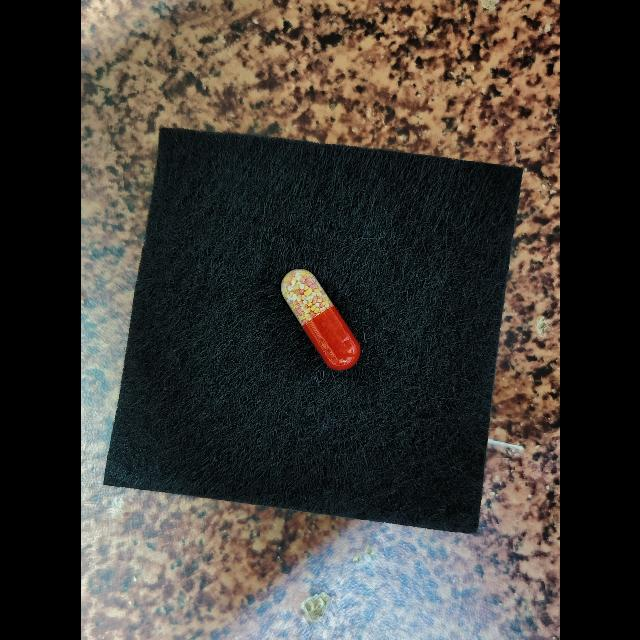Intact Capsule: (280, 268, 360, 370)
